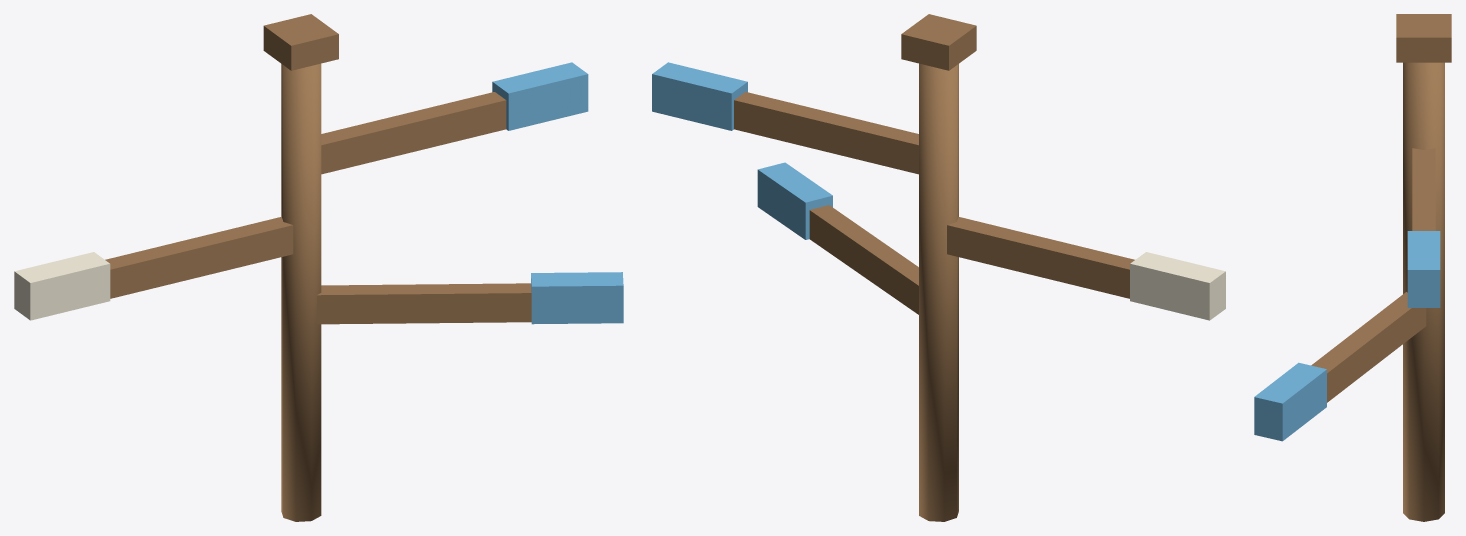
The model's file is ASTX_PROP_SIGNPOST.glb.
3 renders of one model, left to right at view 1: azimuth 30°, elevation 25°; view 2: azimuth 150°, elevation 25°; view 3: azimuth 270°, elevation 25°, orthographic.
Parts seen in each view (by area): view 1: ASTX_PROP_SIGNPOST_post, ASTX_PROP_SIGNPOST_arm2, ASTX_PROP_SIGNPOST_arm0, ASTX_PROP_SIGNPOST_arm1, ASTX_PROP_SIGNPOST_tip1, ASTX_PROP_SIGNPOST_tip2, ASTX_PROP_SIGNPOST_tip0, ASTX_PROP_SIGNPOST_cap; view 2: ASTX_PROP_SIGNPOST_post, ASTX_PROP_SIGNPOST_arm0, ASTX_PROP_SIGNPOST_arm1, ASTX_PROP_SIGNPOST_arm2, ASTX_PROP_SIGNPOST_tip1, ASTX_PROP_SIGNPOST_tip0, ASTX_PROP_SIGNPOST_tip2, ASTX_PROP_SIGNPOST_cap; view 3: ASTX_PROP_SIGNPOST_post, ASTX_PROP_SIGNPOST_arm2, ASTX_PROP_SIGNPOST_tip2, ASTX_PROP_SIGNPOST_cap, ASTX_PROP_SIGNPOST_tip0, ASTX_PROP_SIGNPOST_arm0.
Boxes of the visible parts, <box> form: ASTX_PROP_SIGNPOST_post: <box>281,63,321,521</box>; ASTX_PROP_SIGNPOST_arm2: <box>317,283,531,324</box>; ASTX_PROP_SIGNPOST_arm0: <box>321,92,506,174</box>; ASTX_PROP_SIGNPOST_arm1: <box>105,217,293,298</box>; ASTX_PROP_SIGNPOST_tip1: <box>14,252,110,320</box>; ASTX_PROP_SIGNPOST_tip2: <box>531,272,623,324</box>; ASTX_PROP_SIGNPOST_tip0: <box>492,62,588,130</box>; ASTX_PROP_SIGNPOST_cap: <box>263,14,338,70</box>; ASTX_PROP_SIGNPOST_post: <box>919,63,958,521</box>; ASTX_PROP_SIGNPOST_arm0: <box>734,92,918,174</box>; ASTX_PROP_SIGNPOST_arm1: <box>947,217,1134,298</box>; ASTX_PROP_SIGNPOST_arm2: <box>809,205,918,314</box>; ASTX_PROP_SIGNPOST_tip1: <box>1130,252,1225,320</box>; ASTX_PROP_SIGNPOST_tip0: <box>652,62,747,130</box>; ASTX_PROP_SIGNPOST_tip2: <box>757,162,832,239</box>; ASTX_PROP_SIGNPOST_cap: <box>901,14,976,70</box>; ASTX_PROP_SIGNPOST_post: <box>1403,62,1444,521</box>; ASTX_PROP_SIGNPOST_arm2: <box>1311,292,1426,402</box>; ASTX_PROP_SIGNPOST_tip2: <box>1254,362,1326,441</box>; ASTX_PROP_SIGNPOST_cap: <box>1396,14,1451,62</box>; ASTX_PROP_SIGNPOST_tip0: <box>1407,231,1440,307</box>; ASTX_PROP_SIGNPOST_arm0: <box>1412,148,1435,230</box>.
Size of the model in its own units: 2.8 by 2.32 by 0.8526.
